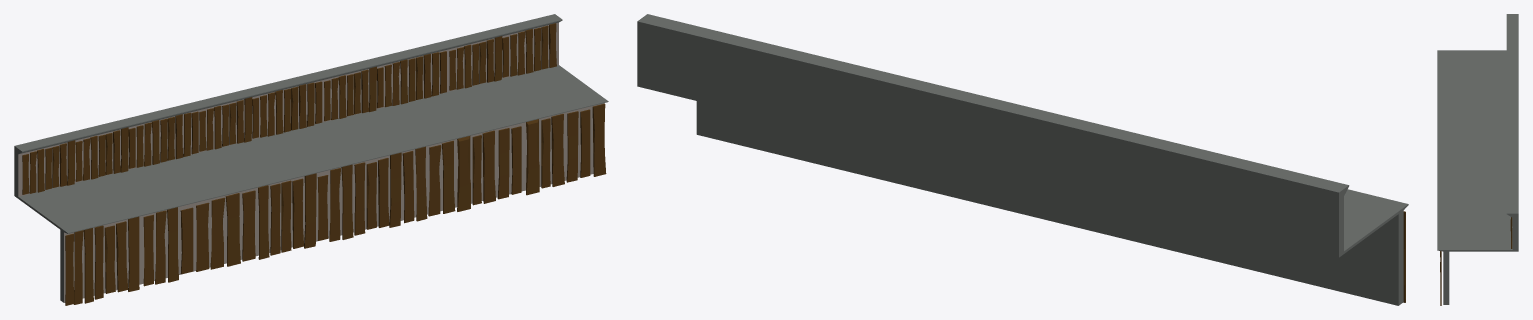
The model's file is Walkway_Harbour.fbx.
The picture shows the model from 3 angles, left to right: view 1: azimuth 30°, elevation 25°; view 2: azimuth 150°, elevation 25°; view 3: azimuth 270°, elevation 25°; orthographic projection. The views are drawn at different scales.
Visible parts, largest first — view 1: Plane; view 2: Plane; view 3: Plane.
Part boxes in pixels (x1,y1,x2,y2): Plane: [14, 14, 608, 305]; Plane: [637, 14, 1408, 305]; Plane: [1437, 14, 1518, 305].
Bounding box in the file's own units: 40.01 × 8.82 × 6.87.
